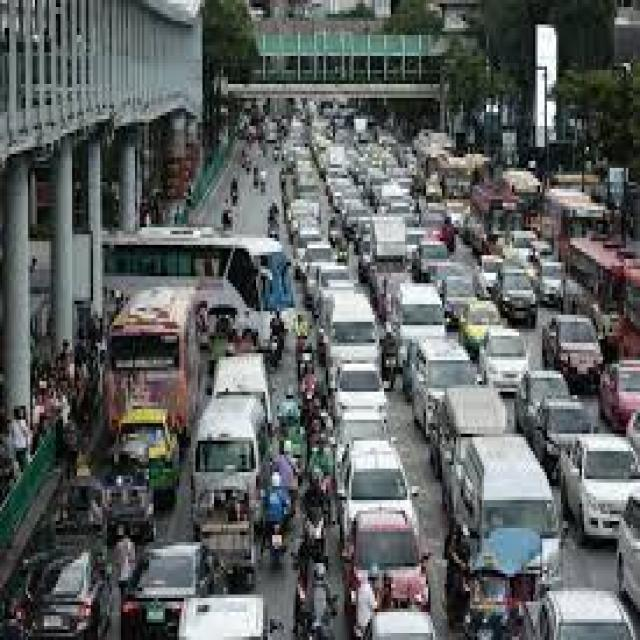bus: (105, 227, 293, 350), (112, 290, 195, 434), (568, 238, 638, 364), (470, 182, 519, 241)
car: (463, 437, 556, 539), (0, 553, 107, 640), (433, 388, 505, 511), (123, 542, 209, 640), (342, 441, 417, 549), (561, 434, 638, 539), (193, 399, 263, 514), (351, 511, 426, 609), (412, 339, 472, 441), (119, 409, 177, 507), (526, 591, 635, 640), (328, 294, 377, 392), (533, 399, 591, 479), (517, 371, 568, 458), (393, 283, 442, 371), (617, 413, 638, 612), (214, 353, 270, 427), (542, 315, 600, 385), (479, 329, 526, 395), (335, 364, 384, 423), (600, 360, 638, 430), (493, 266, 535, 329), (319, 266, 351, 346), (107, 483, 149, 542), (458, 301, 498, 360), (442, 276, 472, 325), (372, 217, 403, 259), (414, 241, 447, 280), (475, 255, 500, 301), (540, 262, 561, 304)
person: (265, 455, 296, 563), (303, 479, 323, 518), (270, 311, 284, 357)
three wheeler: (465, 528, 538, 640)
